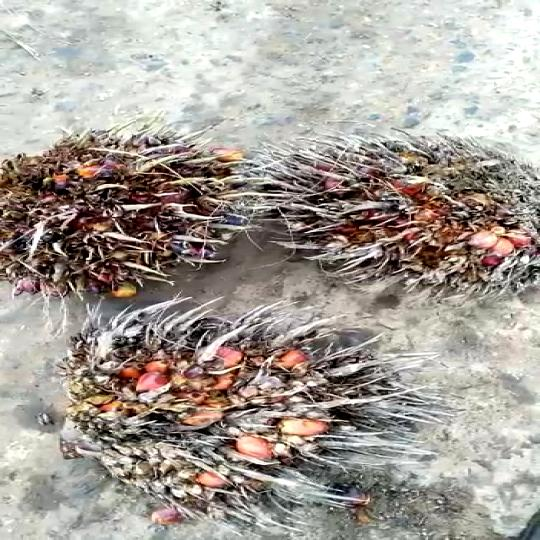terlalu masak: (46, 293, 443, 519), (261, 119, 540, 299), (0, 116, 244, 310)
